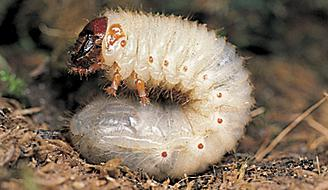grub: (63, 6, 259, 175)
